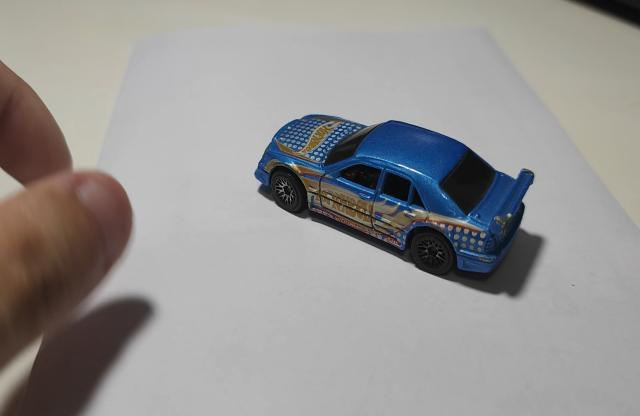04_MERZEDES: (254, 114, 545, 298)
